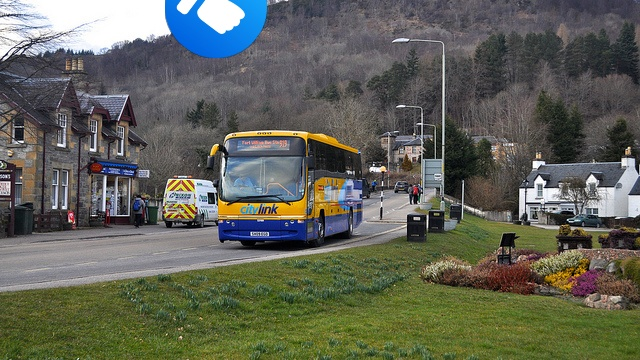like: (165, 0, 267, 58)
